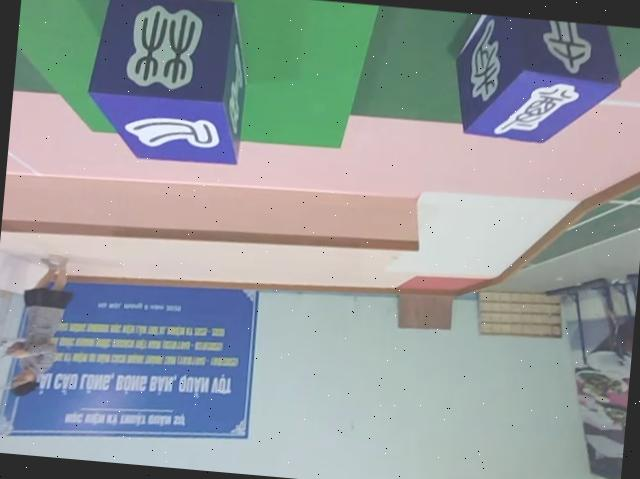R2 Fake Blue: (81, 0, 253, 170), (450, 12, 625, 148)
